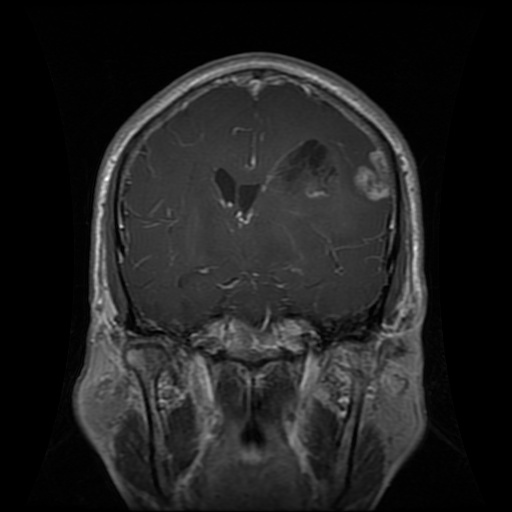glioma: (266, 140, 395, 215)
